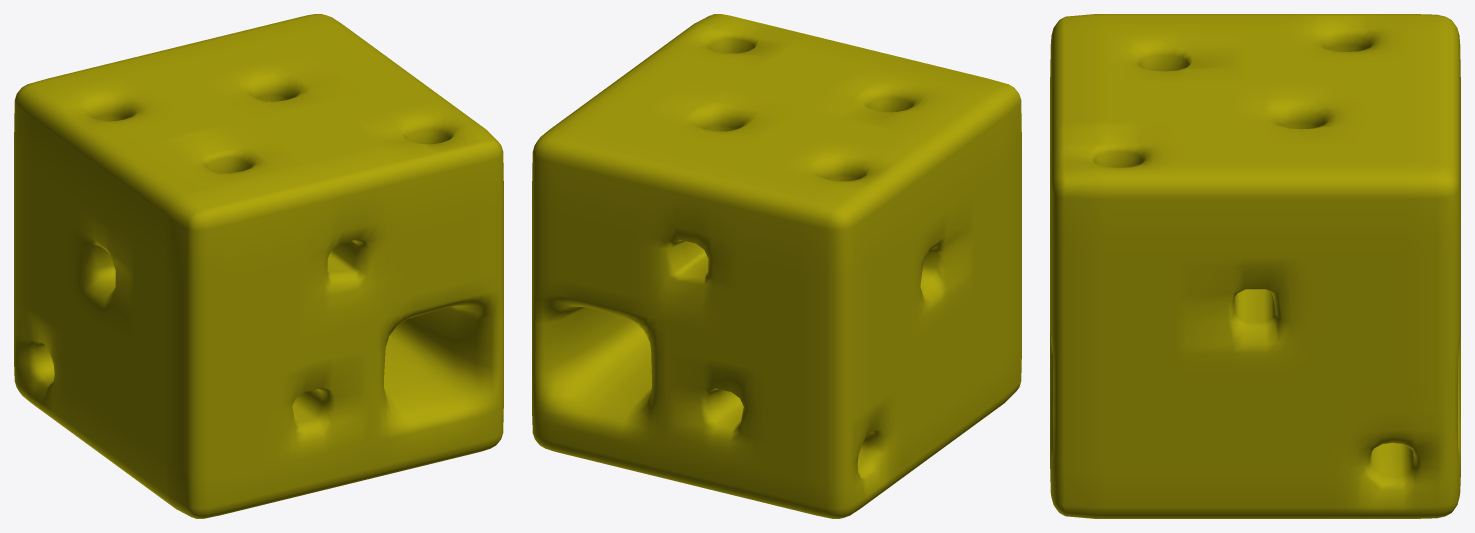
Rendered from Cheese_Block_V1.fbx.
The picture shows the model from 3 angles, left to right: view 1: azimuth 30°, elevation 25°; view 2: azimuth 150°, elevation 25°; view 3: azimuth 270°, elevation 25°; orthographic projection. The views are drawn at different scales.
Parts seen in each view (by area): view 1: pCube2; view 2: pCube2; view 3: pCube2.
Boxes of the visible parts, x1,y1,x2,y2 form: pCube2: [14, 14, 503, 518]; pCube2: [532, 14, 1021, 518]; pCube2: [1050, 14, 1460, 518].
Bounding box in the file's own units: 1 × 0.9352 × 1.
